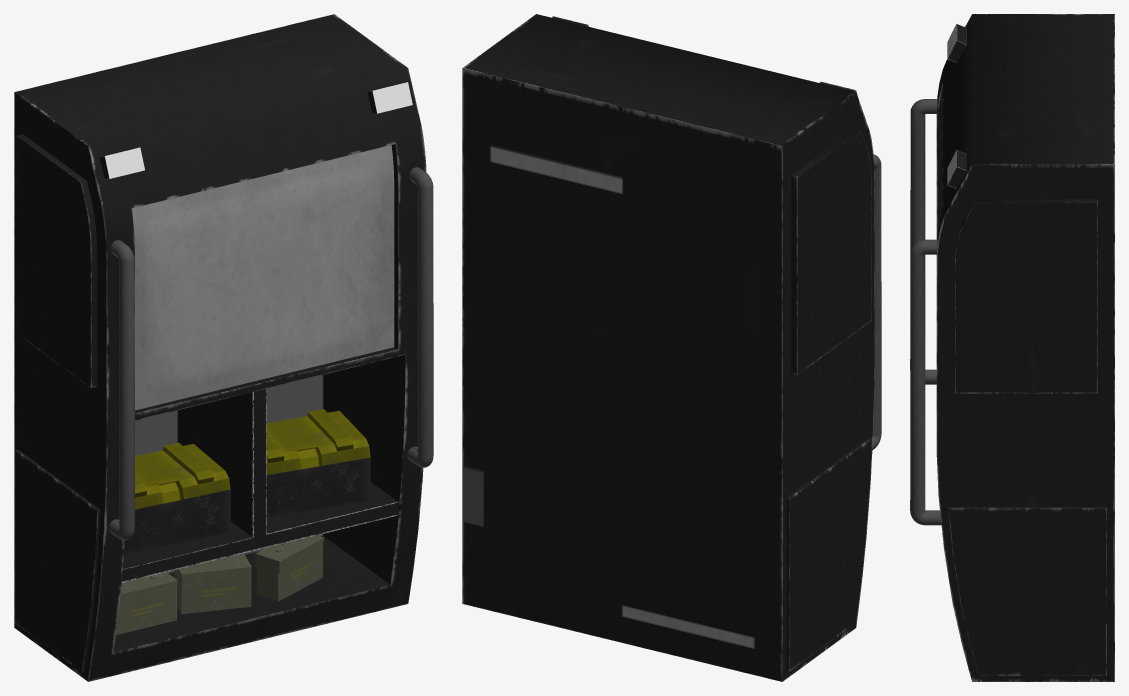
Rendered from MilitaryLargeStorage.fbx.
3 views of the same model, side by side, from view 1: azimuth 30°, elevation 25°; view 2: azimuth 150°, elevation 25°; view 3: azimuth 270°, elevation 25° (orthographic). The views are drawn at different scales.
Parts seen in each view (by area): view 1: Cube, Cube.001, Cylinder, Cube.008, Cube.003, Cube.006, Cube.007, Cube.004, Cube.002; view 2: Cube, Cylinder; view 3: Cube, Cylinder, Cube.002.
Part boxes in pixels (x1,y1,x2,y2): Cube: (14,14,426,681); Cube.001: (121,388,398,582); Cylinder: (108,167,433,540); Cube.008: (266,409,370,517); Cube.003: (124,442,230,554); Cube.006: (174,554,251,613); Cube.007: (255,535,323,601); Cube.004: (116,572,177,634); Cube.002: (99,82,412,179); Cube: (462,14,874,681); Cylinder: (872,154,881,450); Cube: (936,14,1114,681); Cylinder: (910,99,941,525); Cube.002: (947,24,966,188).
Size of the model in its own units: 260 by 400 by 143.
